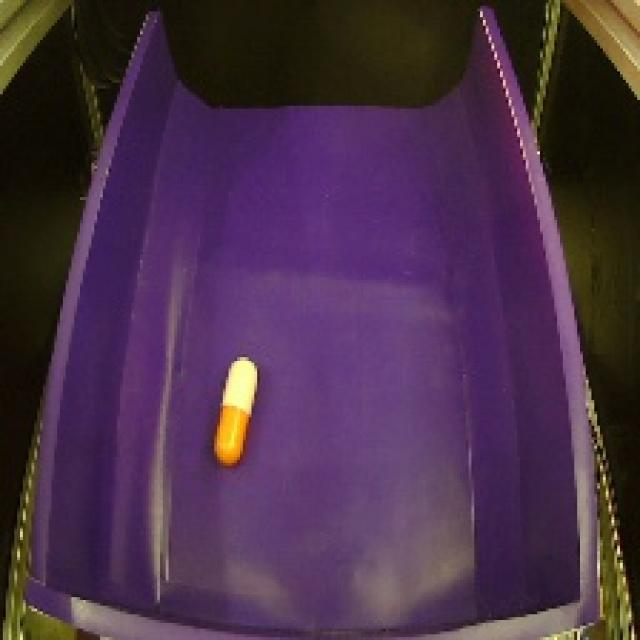small: (211, 351, 263, 468)
